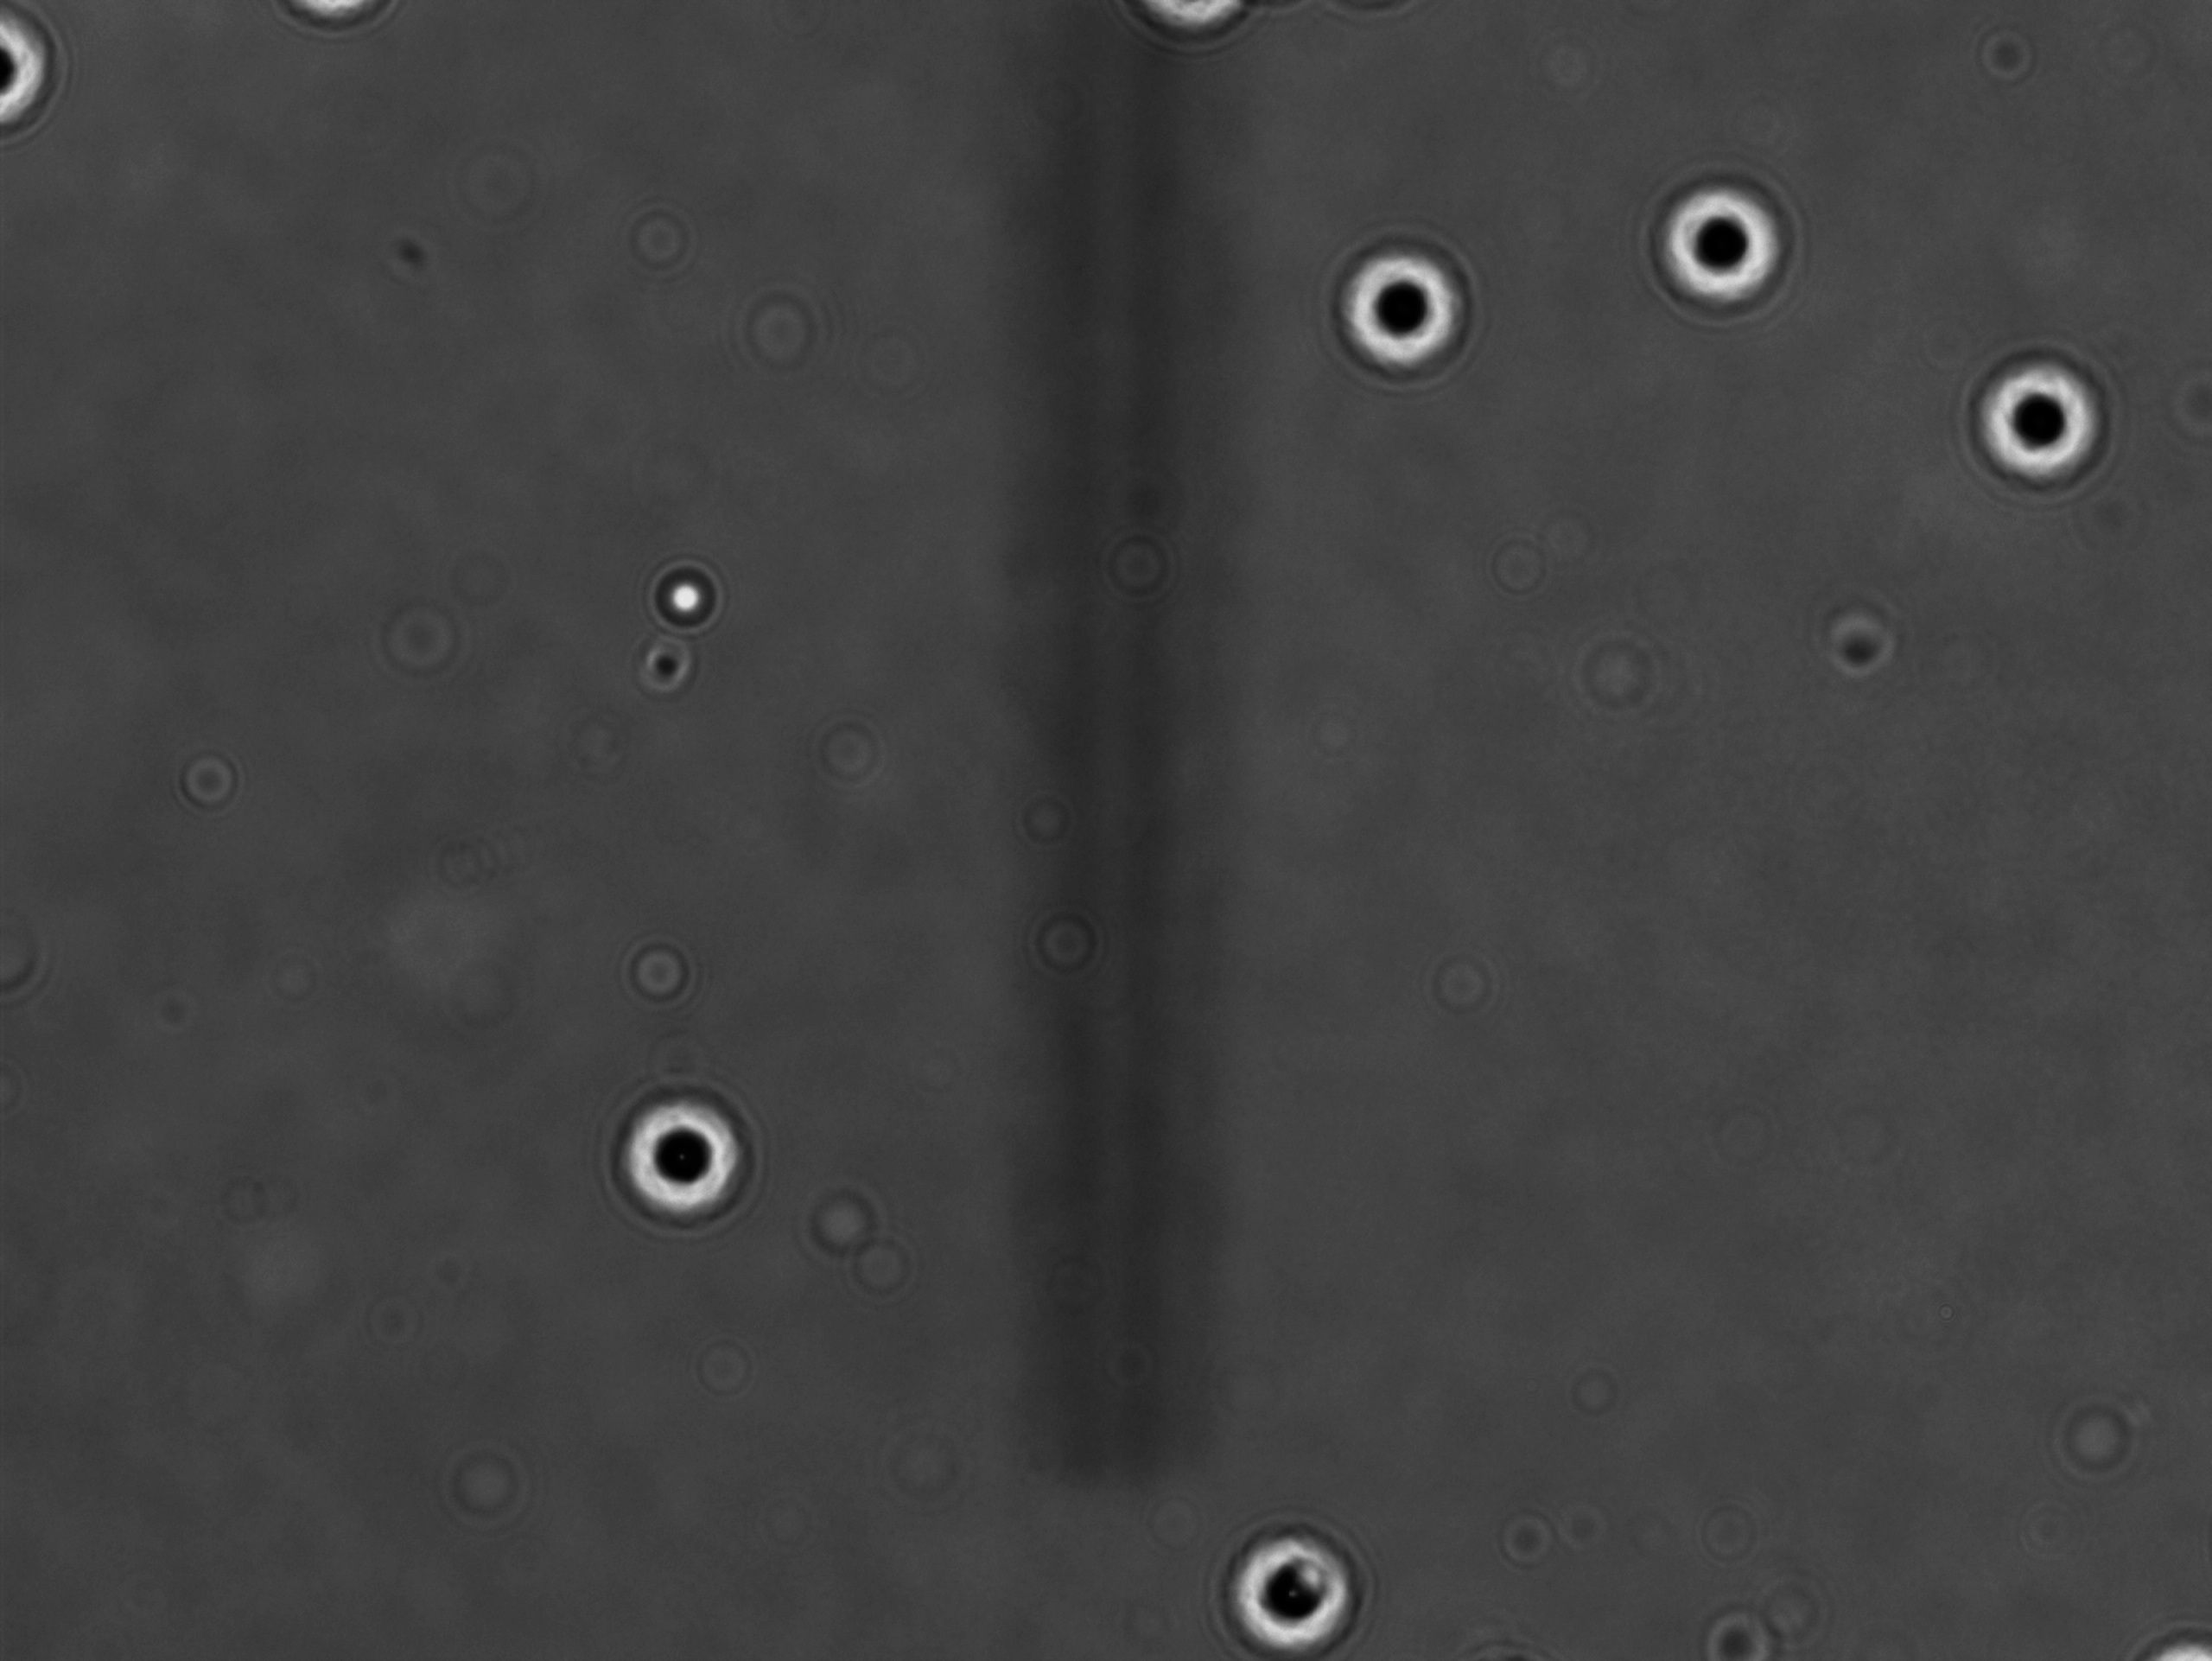depth:-20: (1952, 338, 2133, 504), (1631, 169, 1811, 335), (605, 1070, 766, 1235), (1322, 223, 1483, 387), (1197, 1514, 1362, 1661)
